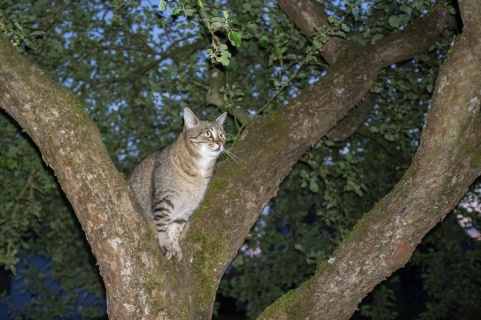Cat: (124, 106, 245, 261)
